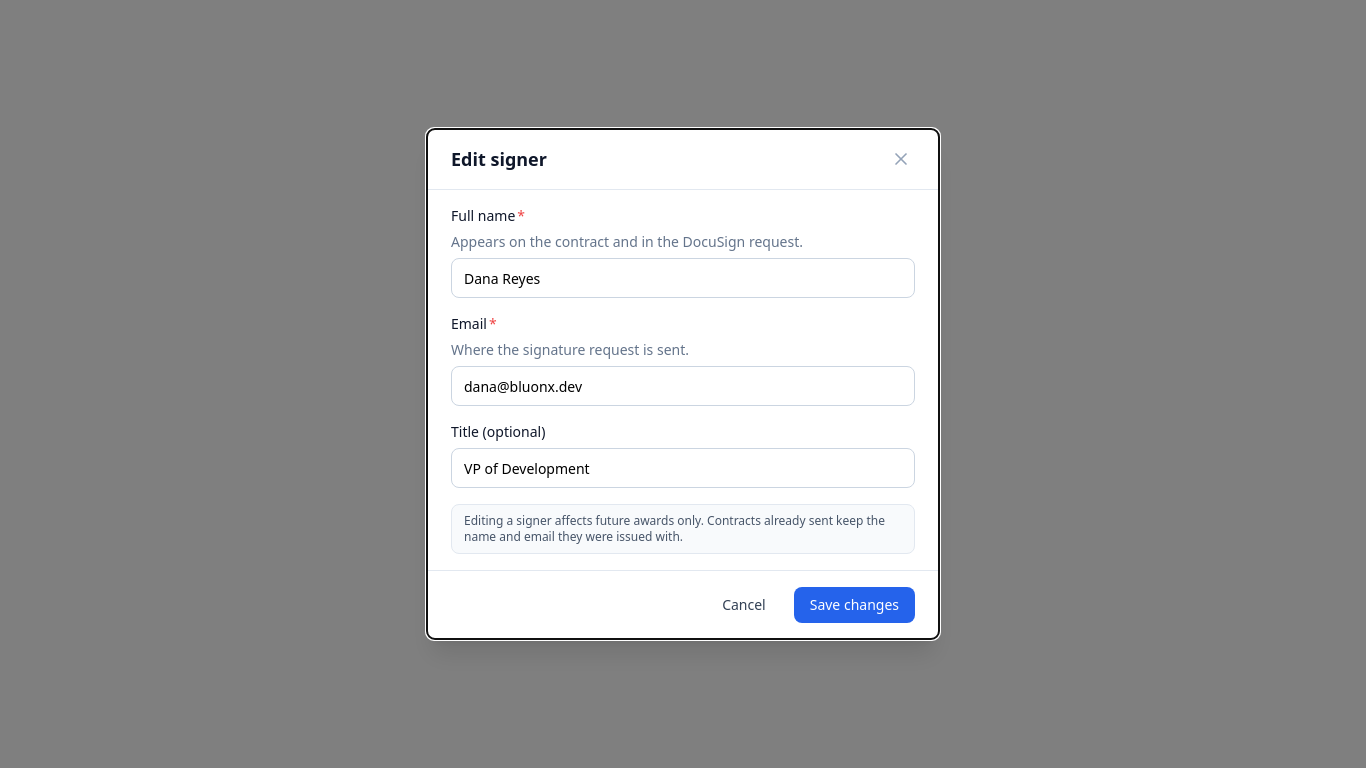
ContractSignerModal › surfaces a server error from the edit path too
Click the button "Save changes" at (854, 605), box [794,587,915,623]
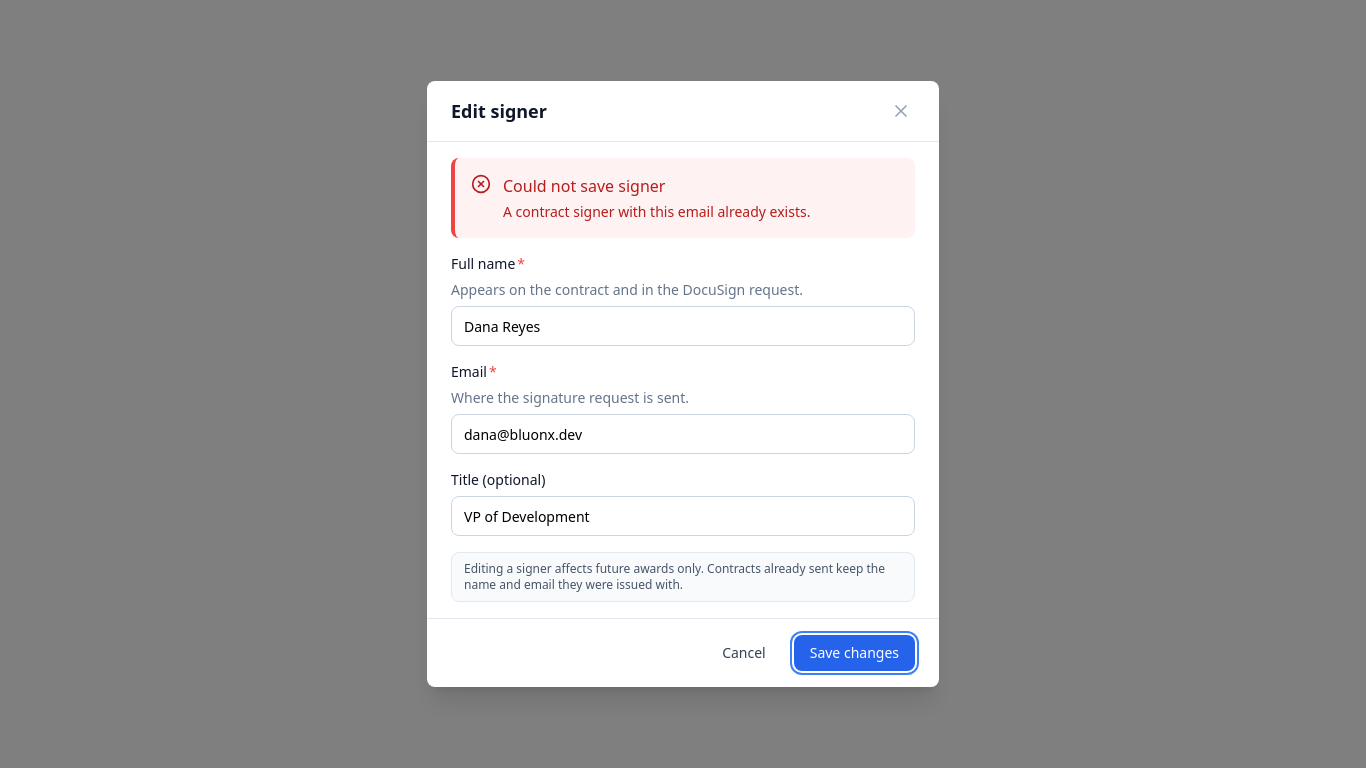
Check: the text "A contract signer with this email already exists." is shown, box [503,202,810,221]
